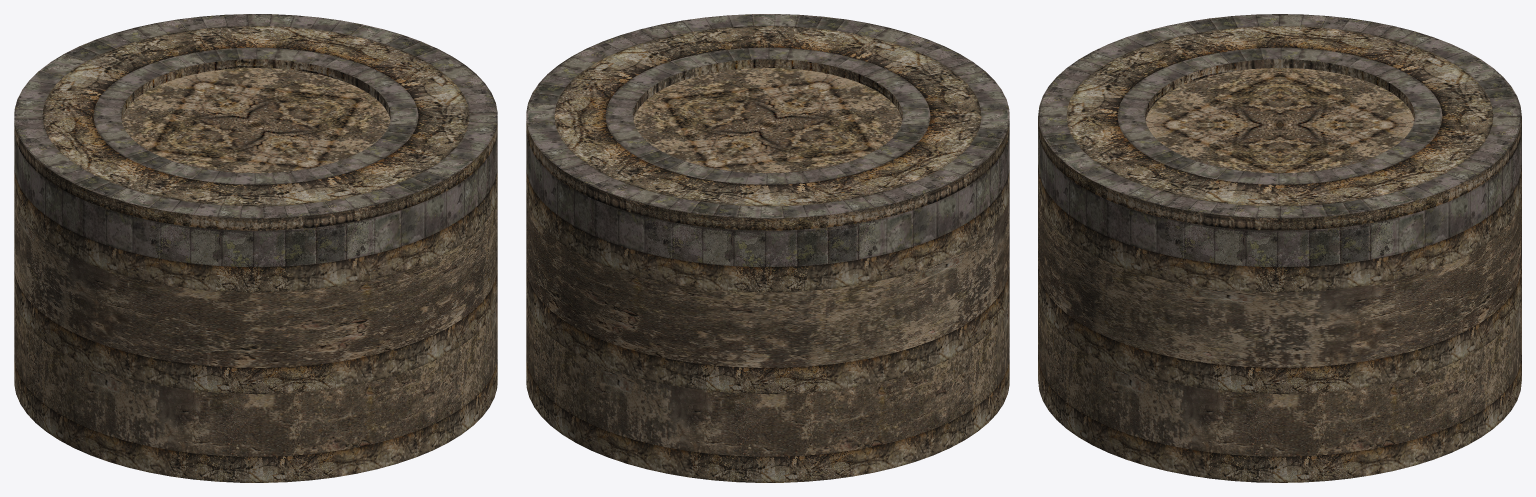
File: materials_5_pillar_fat_20.fbx
3 renders of one model, left to right at view 1: azimuth 30°, elevation 25°; view 2: azimuth 150°, elevation 25°; view 3: azimuth 270°, elevation 25°, orthographic.
Parts seen in each view (by area): view 1: materials_5_pillar_fat_20; view 2: materials_5_pillar_fat_20; view 3: materials_5_pillar_fat_20.
Boxes of the visible parts, x1,y1,x2,y2 form: materials_5_pillar_fat_20: (14, 14, 497, 482); materials_5_pillar_fat_20: (526, 14, 1009, 482); materials_5_pillar_fat_20: (1038, 14, 1521, 482).
Size of the model in its own units: 135 by 81.25 by 135.
